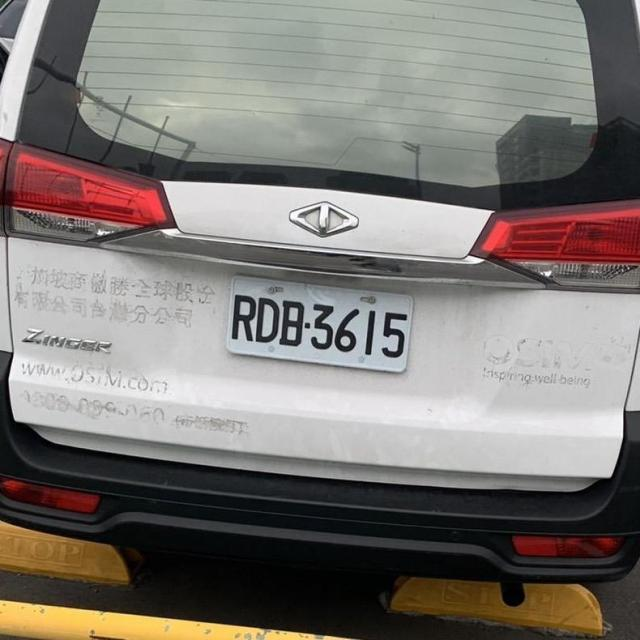W: (218, 266, 420, 382)
